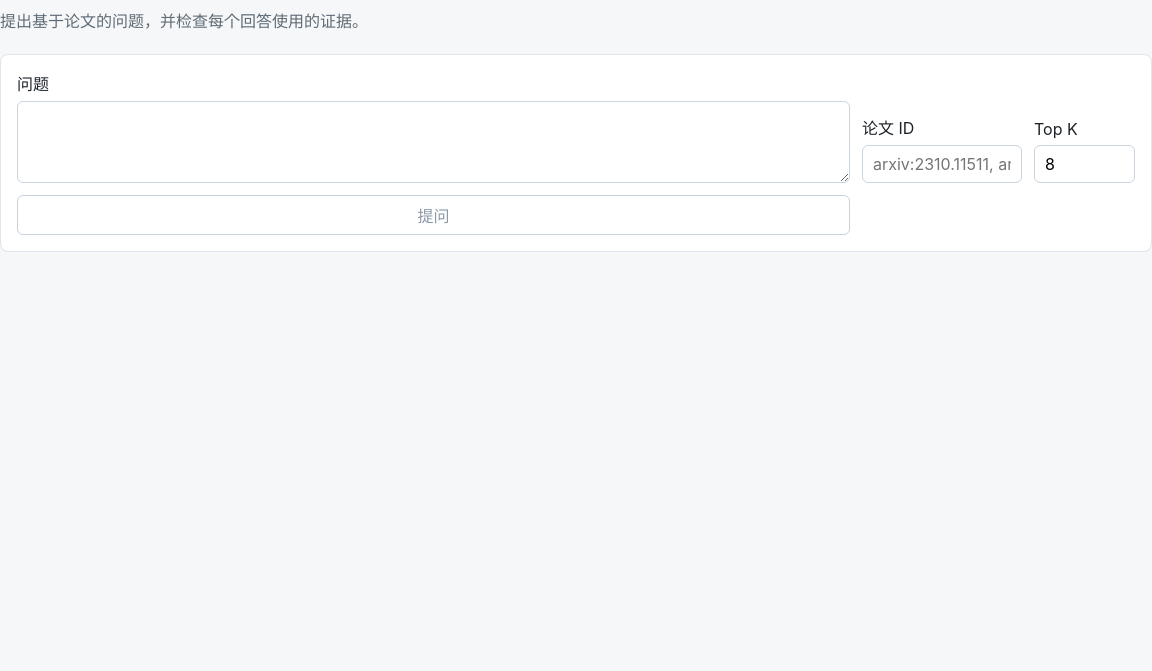
Test: Overview and Library pages › ask page creates a structured dsh handoff
In the text box labelled "问题": (434, 142) [17, 101, 850, 183], type "What is Self-RAG?"
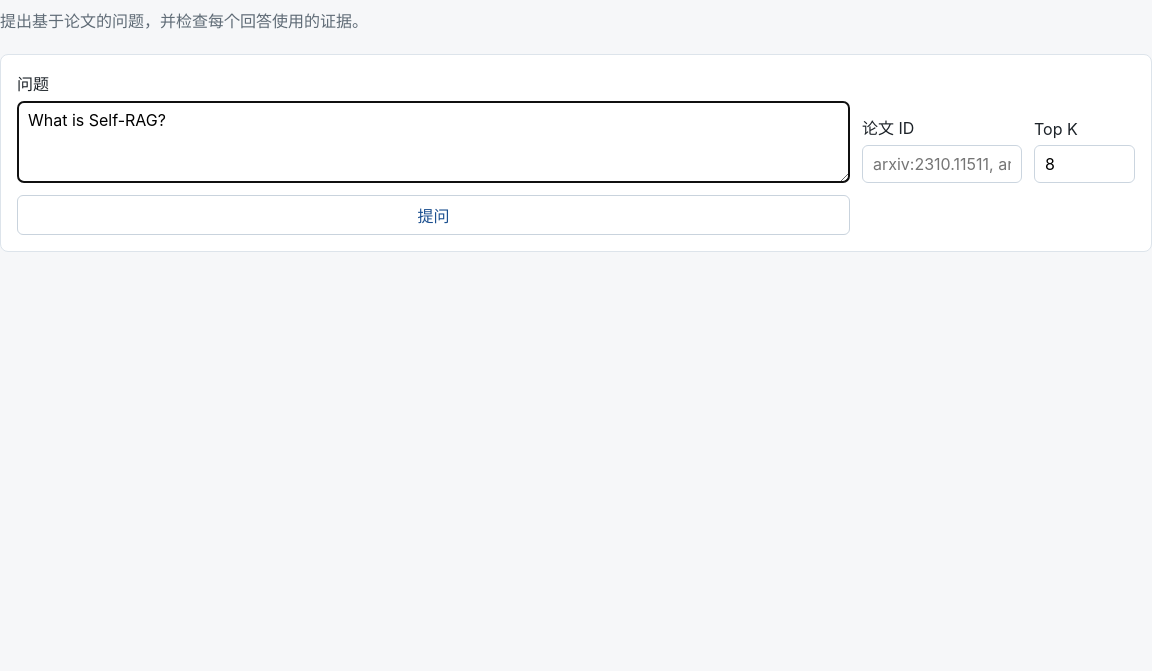
Click the button "提问": (434, 215) [17, 195, 850, 235]
(page scrolled)
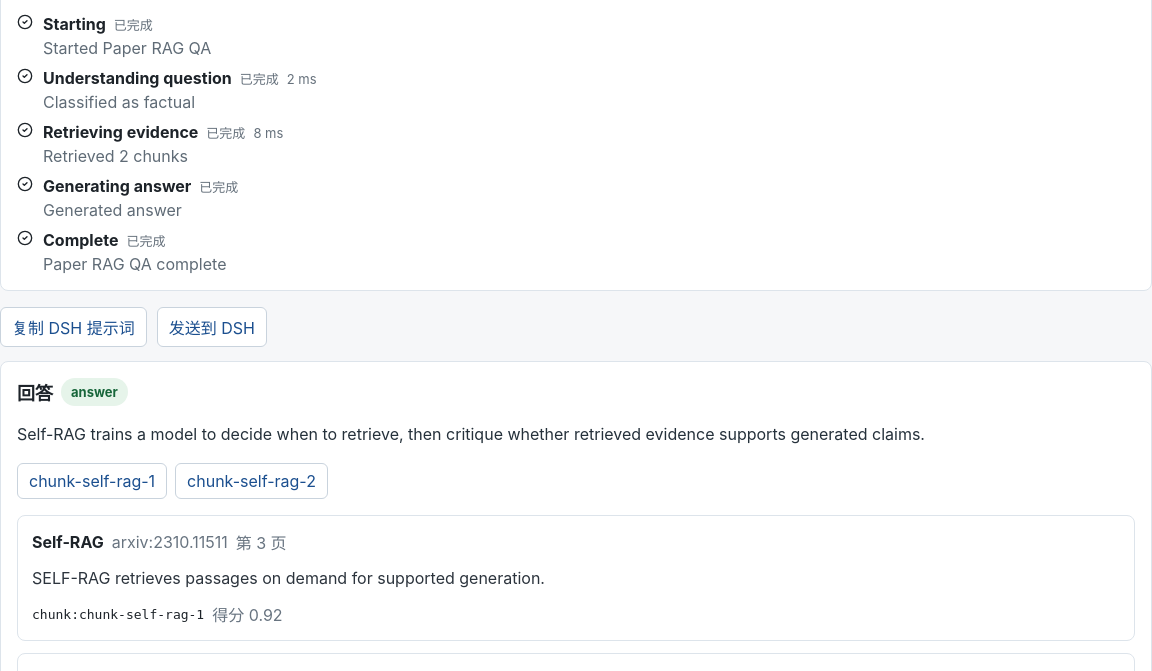
Click the button "发送到 DSH": (212, 327) [157, 307, 267, 347]
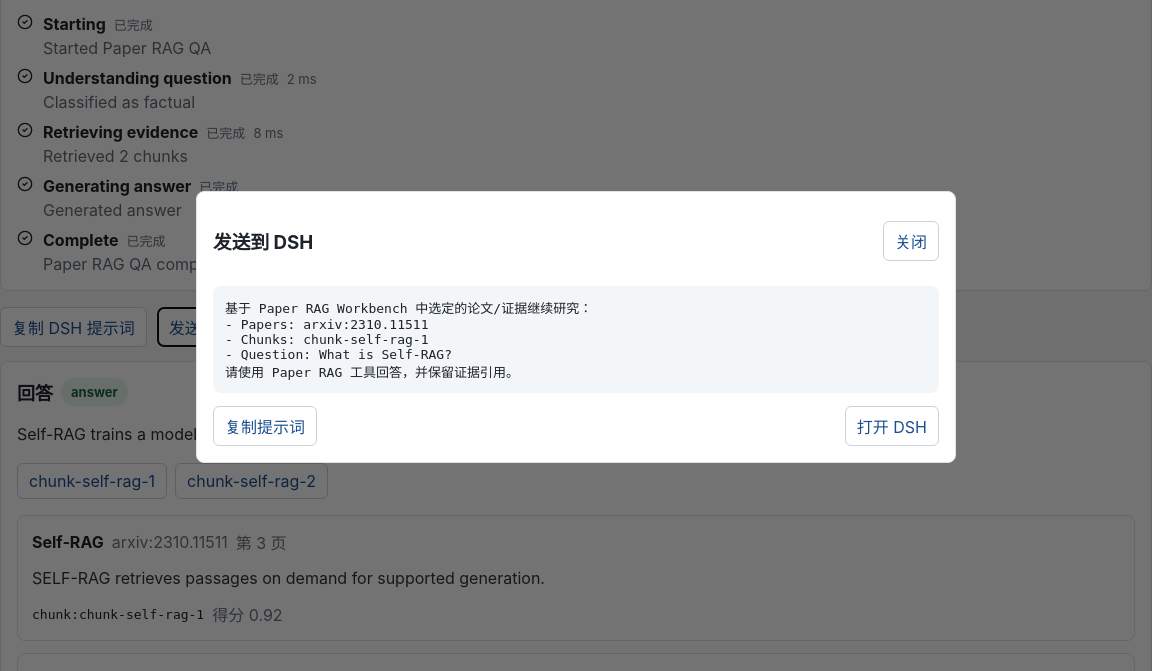
Now the dialog "发送到 DSH" is shown, box [196, 191, 956, 463]
